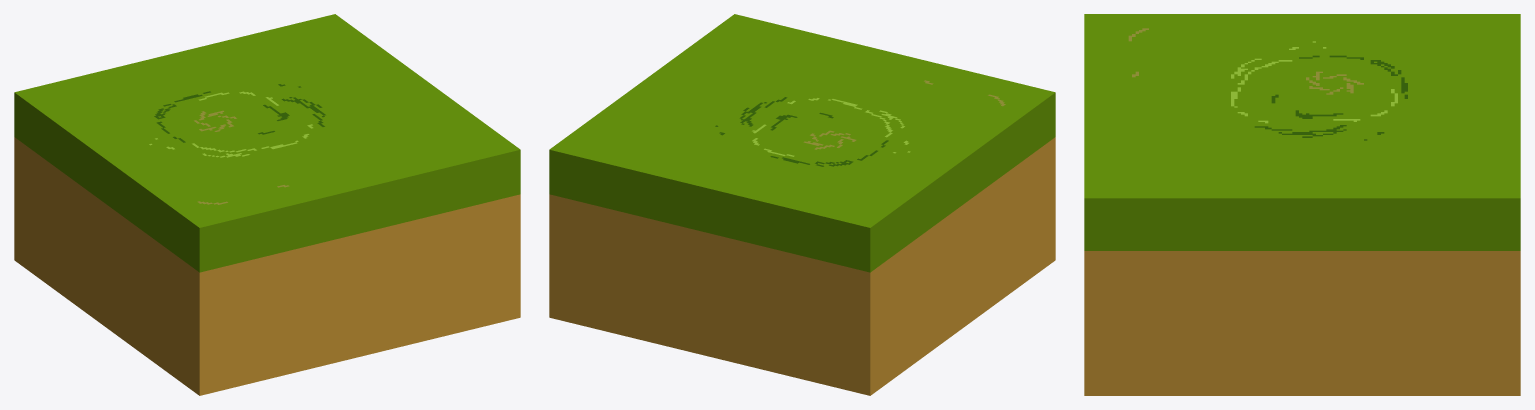
3 renders of one model, left to right at view 1: azimuth 30°, elevation 25°; view 2: azimuth 150°, elevation 25°; view 3: azimuth 270°, elevation 25°, orthographic. The views are drawn at different scales.
Visible parts, largest first — view 1: 12H; view 2: 12H; view 3: 12H.
Part boxes in pixels (left/top/right/bottom): 12H: left=14, top=14, right=520, bottom=395; 12H: left=549, top=14, right=1055, bottom=395; 12H: left=1084, top=14, right=1520, bottom=395.
Bounding box in the file's own units: 12.8 × 6.4 × 12.8.
1 material, 1 textured.
